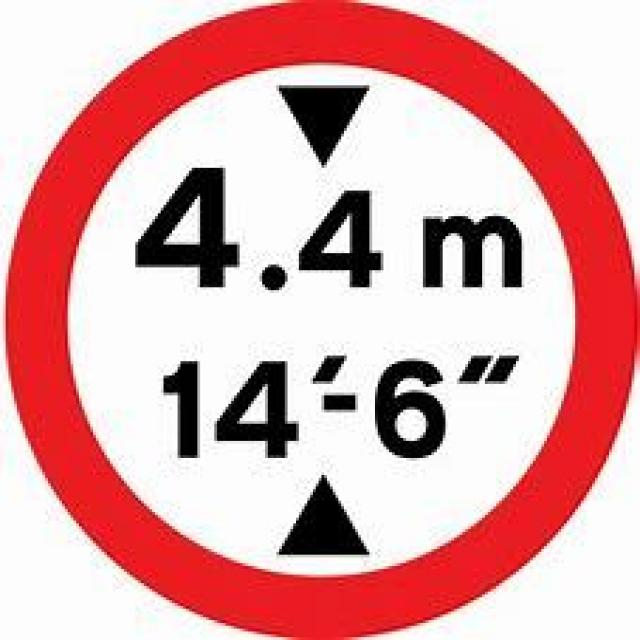HEIGHT_LIMIT: (3, 0, 634, 637)
